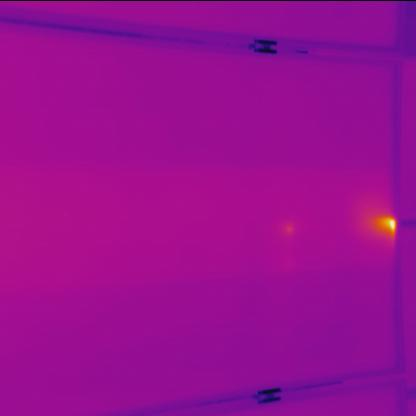hotspot: (372, 204, 399, 237)
